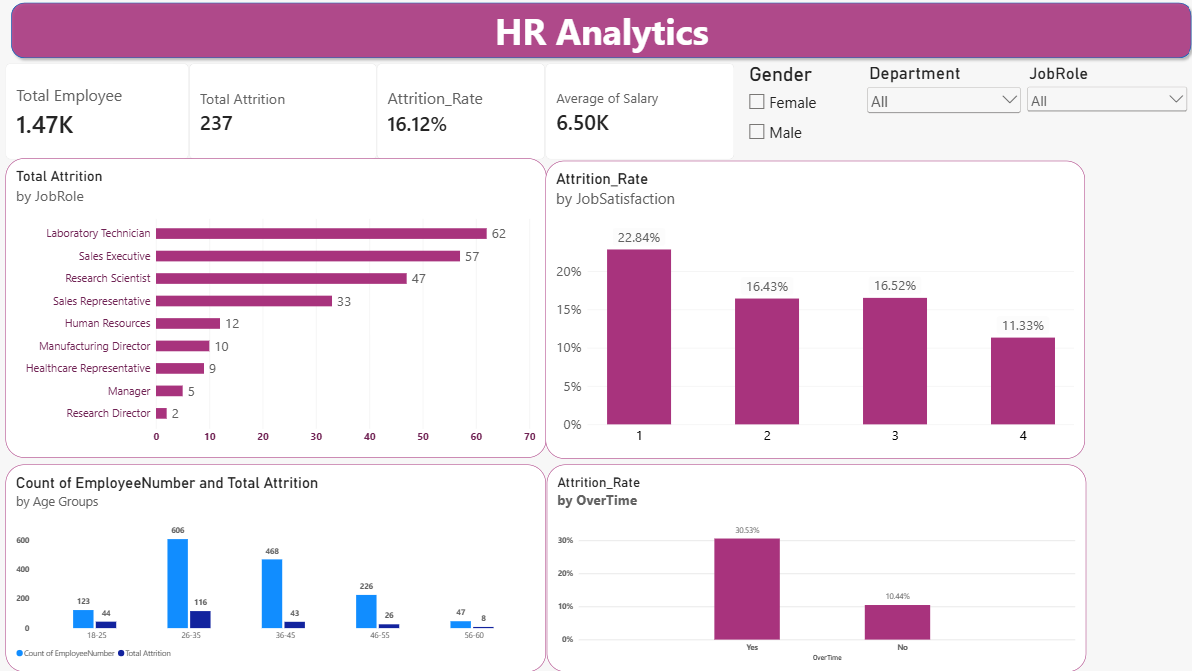

The page's visual inventory and layout, read from the dashboard file:
{"tool":"powerbi","page":{"name":"Page 1","canvas":[1920,1080],"ordinal":0},"visuals":[{"type":"shape","box":[11.4,0,1907.9,106.8],"z":0},{"type":"cardVisual","fields":{"Data":["CountNonNull(WA_Fn-UseC_-HR-Employee-Attrition.EmployeeNumber)"]},"box":[12.2,105.4,294,154.1],"z":1000},{"type":"cardVisual","fields":{"Data":["WA_Fn-UseC_-HR-Employee-Attrition.Total Attrition"]},"box":[306.2,105.4,300.1,154.1],"z":2000},{"type":"cardVisual","fields":{"Data":["WA_Fn-UseC_-HR-Employee-Attrition.Attrition_Rate"]},"box":[606.2,105.4,269.7,154.1],"z":3000},{"type":"cardVisual","fields":{"Data":["Avg(WA_Fn-UseC_-HR-Employee-Attrition.MonthlyIncome)"]},"box":[875.9,105.4,302.1,154.1],"z":4000},{"type":"slicer","fields":{"Values":["WA_Fn-UseC_-HR-Employee-Attrition.Gender"]},"box":[1194.2,105.4,192.6,154.1],"z":5000},{"type":"slicer","fields":{"Values":["WA_Fn-UseC_-HR-Employee-Attrition.Department"]},"box":[1386.9,105.4,255.5,154.1],"z":6000},{"type":"slicer","fields":{"Values":["WA_Fn-UseC_-HR-Employee-Attrition.JobRole"]},"box":[1642.3,105.4,265.6,154.1],"z":7000},{"type":"clusteredBarChart","fields":{"Category":["WA_Fn-UseC_-HR-Employee-Attrition.JobRole"],"Y":["WA_Fn-UseC_-HR-Employee-Attrition.Total Attrition"]},"box":[11.4,258.9,865.4,479.2],"z":7001},{"type":"columnChart","fields":{"Category":["WA_Fn-UseC_-HR-Employee-Attrition.JobSatisfaction"],"Y":["WA_Fn-UseC_-HR-Employee-Attrition.Attrition_Rate"]},"box":[876.7,261.2,863.1,477],"z":7002},{"type":"clusteredColumnChart","fields":{"Category":["WA_Fn-UseC_-HR-Employee-Attrition.Age Groups"],"Y":["CountNonNull(WA_Fn-UseC_-HR-Employee-Attrition.EmployeeNumber)","WA_Fn-UseC_-HR-Employee-Attrition.Total Attrition"]},"box":[11,748,865,332],"z":7003},{"type":"columnChart","fields":{"Category":["WA_Fn-UseC_-HR-Employee-Attrition.OverTime"],"Y":["WA_Fn-UseC_-HR-Employee-Attrition.Attrition_Rate"]},"box":[877,748,863,332],"z":7004}]}

Visuals, with their boxes in screenshot pixels (x1, y1, x2, y2), scaled from the page's 1920x1080 canvas onto the 1192x671 screenshot:
shape: 7/0/1191/66
cardVisual - CountNonNull(WA_Fn-UseC_-HR-Employee-Attrition.EmployeeNumber): 8/65/190/161
cardVisual - WA_Fn-UseC_-HR-Employee-Attrition.Total Attrition: 190/65/376/161
cardVisual - WA_Fn-UseC_-HR-Employee-Attrition.Attrition_Rate: 376/65/544/161
cardVisual - Avg(WA_Fn-UseC_-HR-Employee-Attrition.MonthlyIncome): 544/65/731/161
slicer - WA_Fn-UseC_-HR-Employee-Attrition.Gender: 741/65/861/161
slicer - WA_Fn-UseC_-HR-Employee-Attrition.Department: 861/65/1020/161
slicer - WA_Fn-UseC_-HR-Employee-Attrition.JobRole: 1020/65/1184/161
clusteredBarChart - WA_Fn-UseC_-HR-Employee-Attrition.JobRole x WA_Fn-UseC_-HR-Employee-Attrition.Total Attrition: 7/161/544/459
columnChart - WA_Fn-UseC_-HR-Employee-Attrition.JobSatisfaction x WA_Fn-UseC_-HR-Employee-Attrition.Attrition_Rate: 544/162/1080/459
clusteredColumnChart - WA_Fn-UseC_-HR-Employee-Attrition.Age Groups x CountNonNull(WA_Fn-UseC_-HR-Employee-Attrition.EmployeeNumber): 7/465/544/670
columnChart - WA_Fn-UseC_-HR-Employee-Attrition.OverTime x WA_Fn-UseC_-HR-Employee-Attrition.Attrition_Rate: 544/465/1080/670
